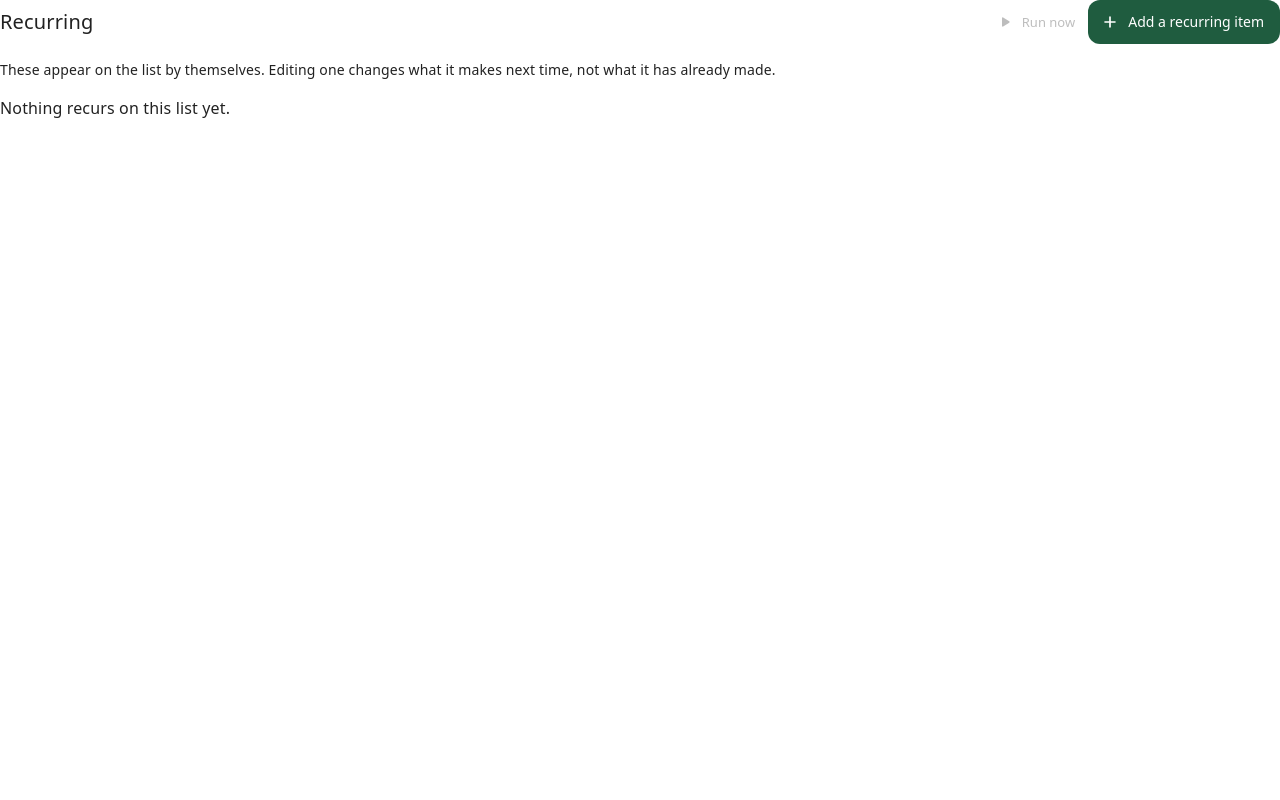
Test: RecurrenceSection › needs a weekday before a weekly rule can be saved
Click the button "Add a recurring item". click: (1184, 22)
box: [1088, 0, 1279, 44]
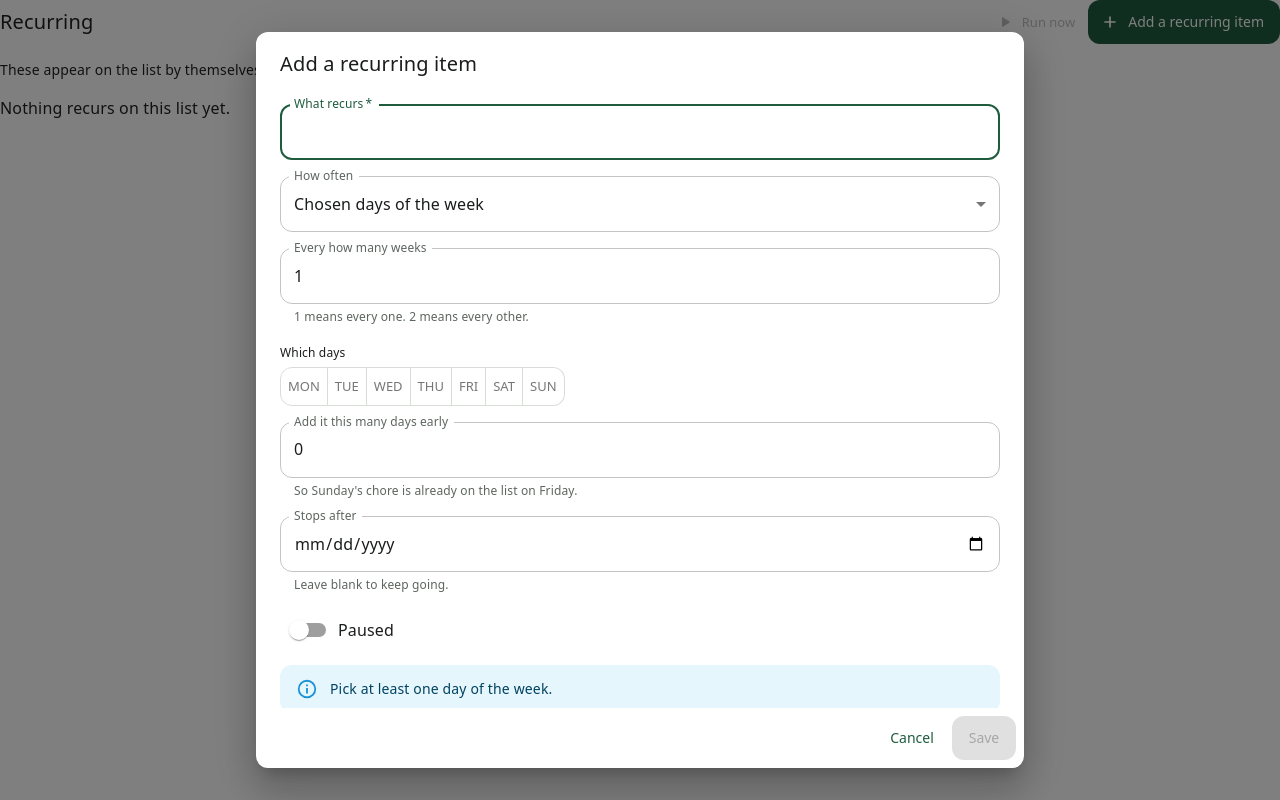
Type "Bins" into the field labelled "What recurs". click: (640, 132)
box: [280, 104, 1000, 160]
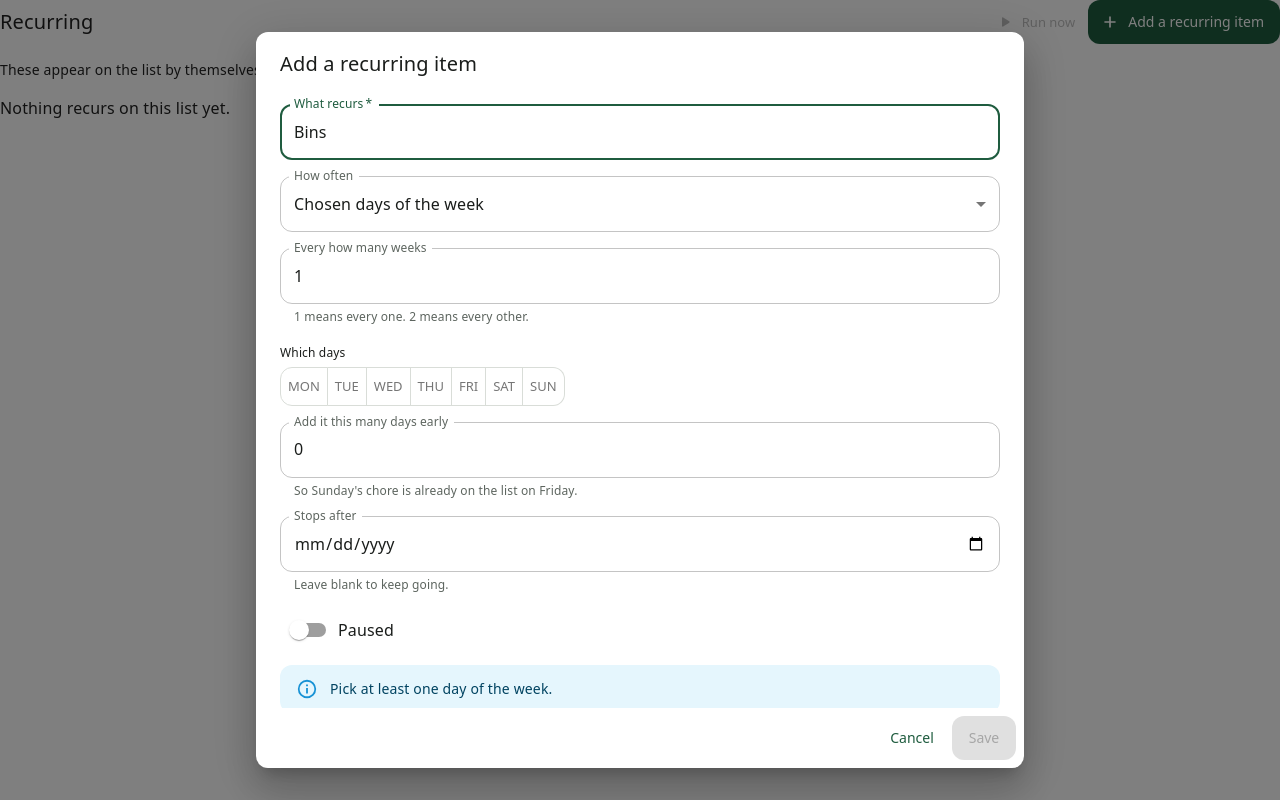
expect the button "Save" is disabled: met, box [952, 716, 1016, 760]
Click the button with aria-label "TUESDAY". click: (347, 386)
box: [327, 367, 367, 406]
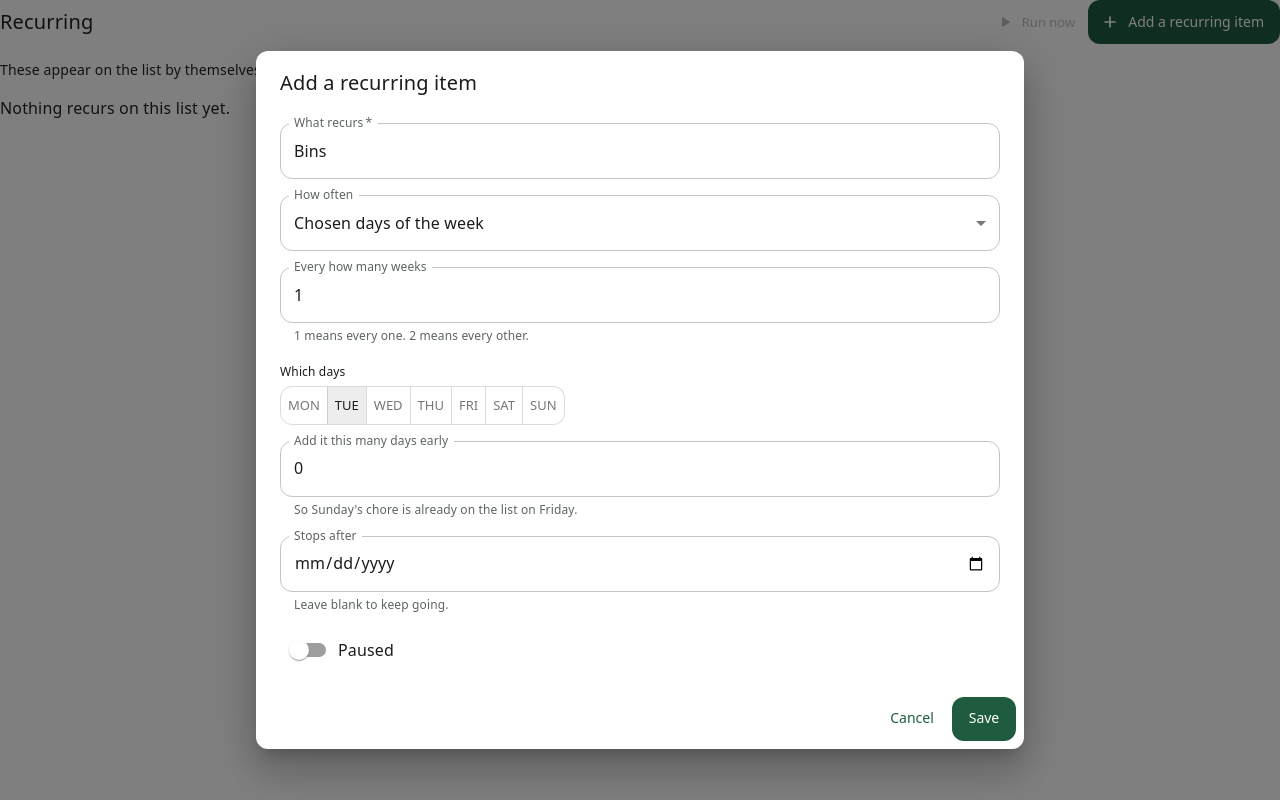
expect the button "Save" is enabled: met, box [952, 697, 1016, 741]
